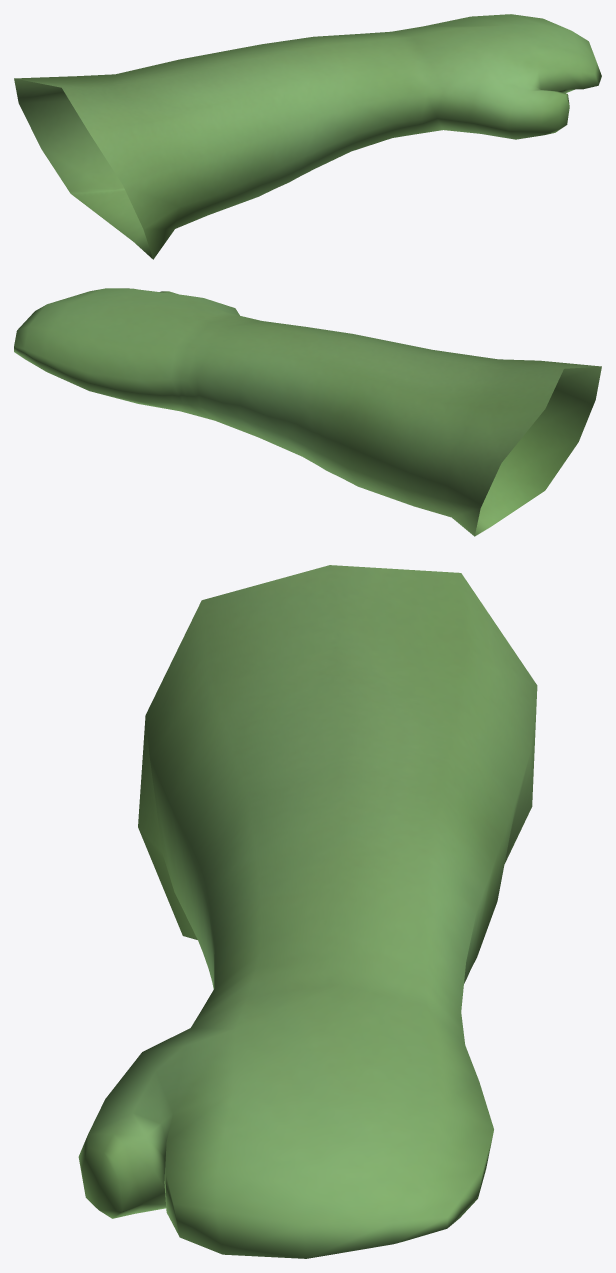
The model's file is kappa-leftArm.fbx.
The picture shows the model from 3 angles, top to bottom: view 1: azimuth 30°, elevation 25°; view 2: azimuth 150°, elevation 25°; view 3: azimuth 270°, elevation 25°; orthographic projection. The views are drawn at different scales.
Visible parts, largest first — view 1: Kappa_rArm; view 2: Kappa_rArm; view 3: Kappa_rArm.
Boxes of the visible parts, box(x1,y1,x2,y2) form: Kappa_rArm: box(14, 14, 601, 259); Kappa_rArm: box(14, 288, 601, 536); Kappa_rArm: box(78, 565, 537, 1258).
Bounding box in the file's own units: 14.02 × 4.26 × 5.17.
